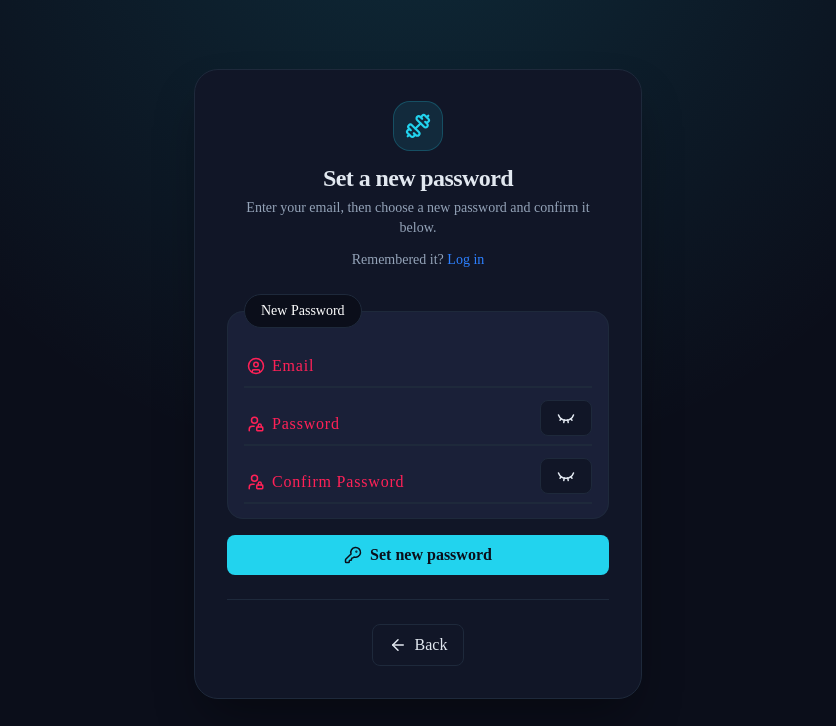
Test: SetPasswordForm suite › Should highlight the confirmation field when passwords do not match
Type "new-secret-1" into the password field labelled "Password" at x=418, y=423, box [244,400,592,446]
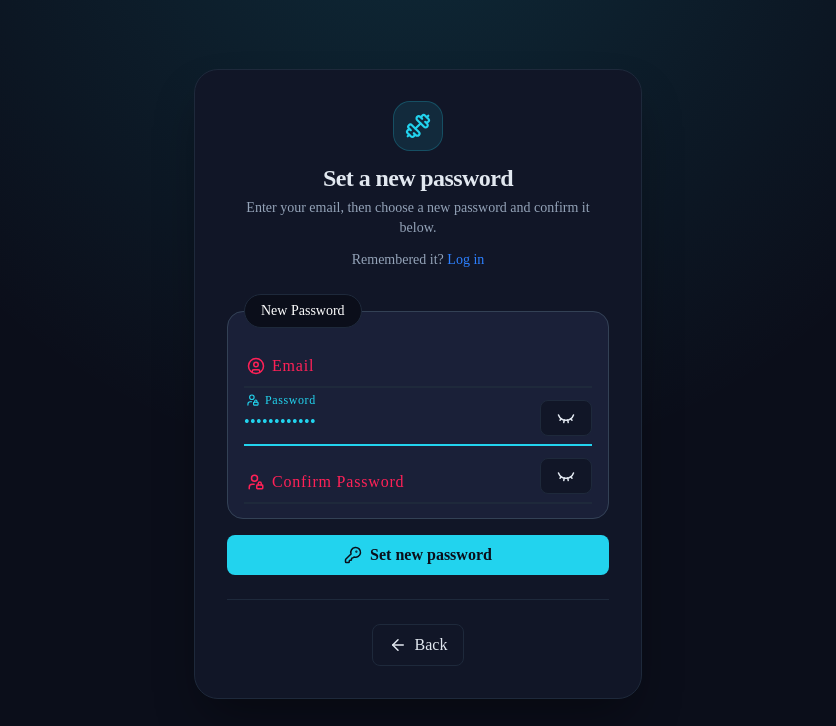
Type "other-secret-2" into the password field labelled "Confirm Password" at x=418, y=481, box [244,458,592,504]
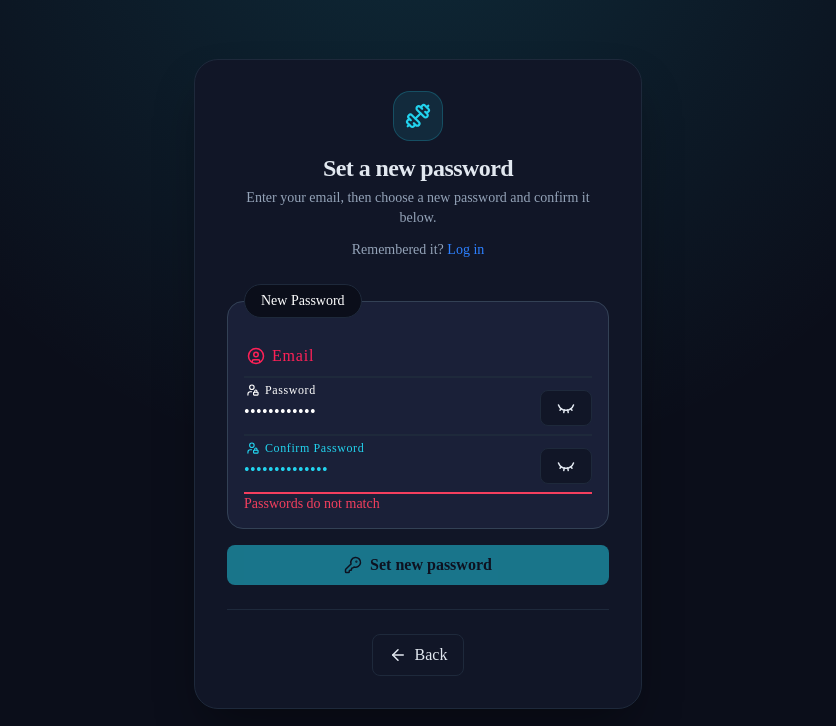
Expected: the button with aria-label "Set new password button" is disabled, [227,545,609,585]
